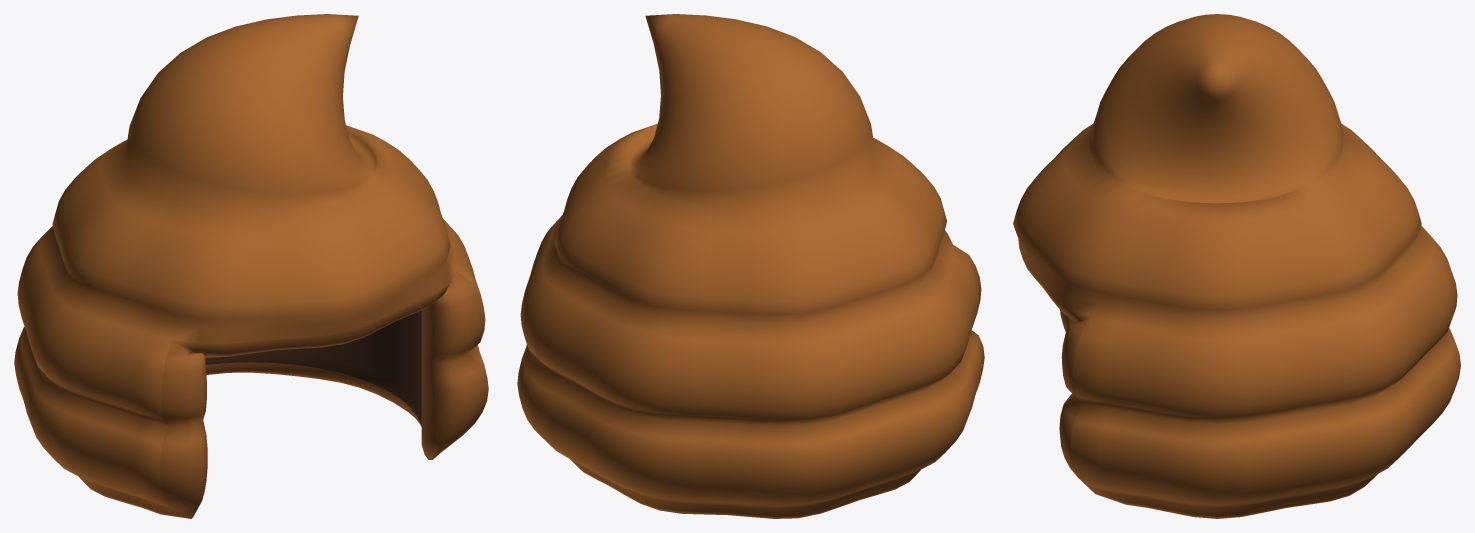
Rendered from hat_poop.glb.
The picture shows the model from 3 angles, left to right: view 1: azimuth 30°, elevation 25°; view 2: azimuth 150°, elevation 25°; view 3: azimuth 270°, elevation 25°; orthographic projection. The views are drawn at different scales.
Visible parts, largest first — view 1: hat_poop_q; view 2: hat_poop_q; view 3: hat_poop_q.
Boxes of the visible parts, x1,y1,x2,y2 form: hat_poop_q: [14, 14, 488, 518]; hat_poop_q: [517, 14, 984, 518]; hat_poop_q: [1013, 14, 1460, 518].
Size of the model in its own units: 3.05 by 2.91 by 2.8.
